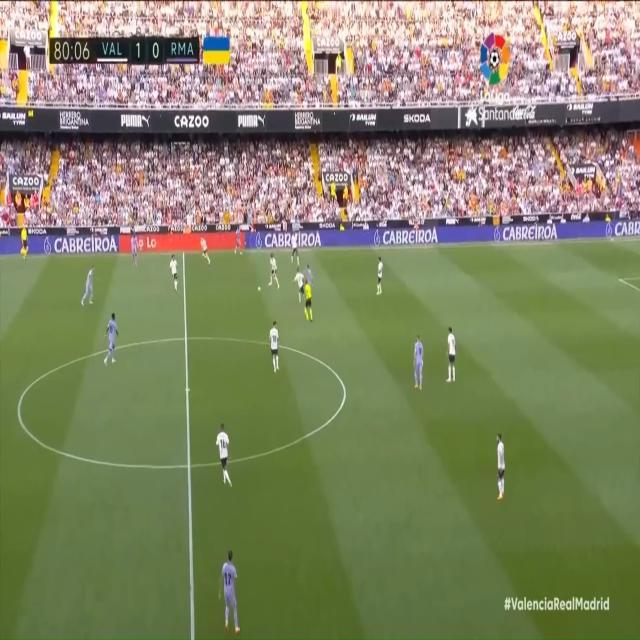ball: (256, 283, 263, 294)
player: (219, 549, 245, 637), (264, 314, 286, 377), (216, 420, 231, 489), (103, 313, 120, 371), (495, 426, 505, 500), (446, 322, 457, 386), (412, 332, 423, 393), (81, 264, 96, 307), (374, 250, 385, 303), (129, 230, 142, 272), (289, 228, 302, 267), (167, 254, 180, 291), (235, 223, 245, 265), (304, 259, 316, 293), (294, 266, 305, 303), (199, 238, 214, 265), (268, 251, 278, 289)
referee: (300, 273, 317, 327), (18, 221, 30, 261)
